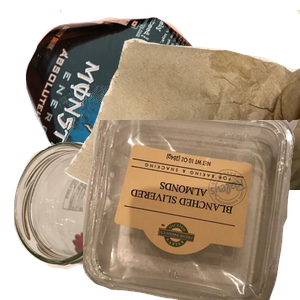glass: (11, 139, 179, 300)
metal: (23, 15, 263, 195)
plastic: (83, 120, 300, 300)
trash: (60, 10, 300, 190)
